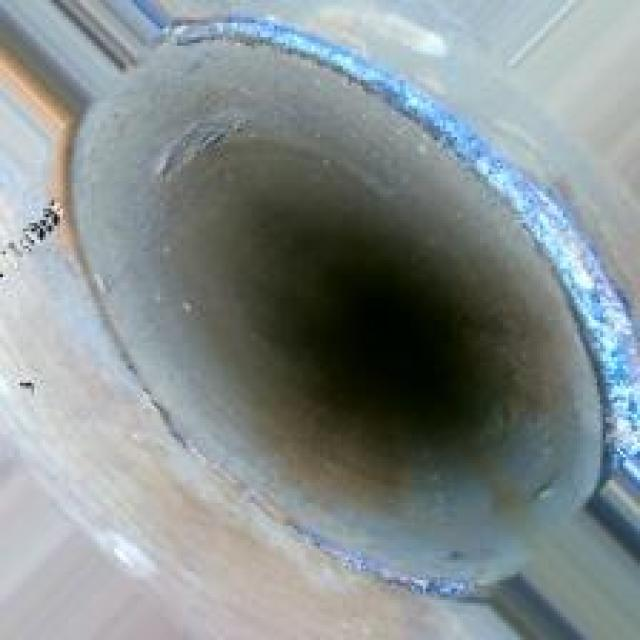joint: (69, 31, 614, 592)
